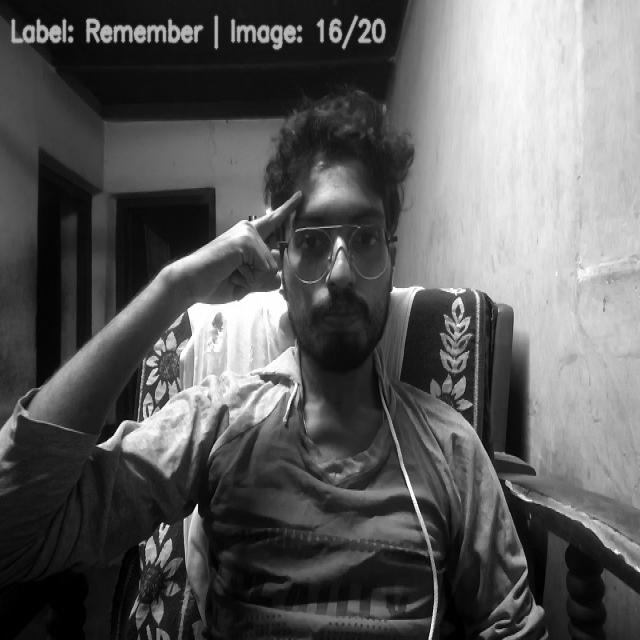Remember: (196, 187, 306, 308)
